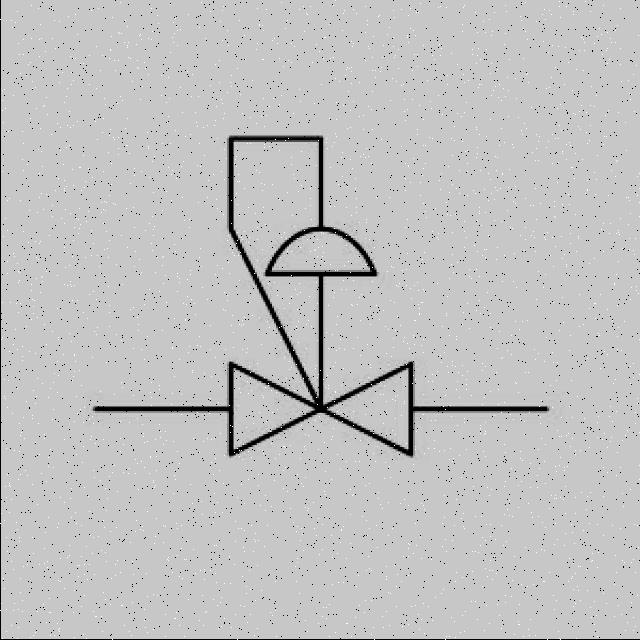BackPressure Regulator: (146, 94, 494, 472)
